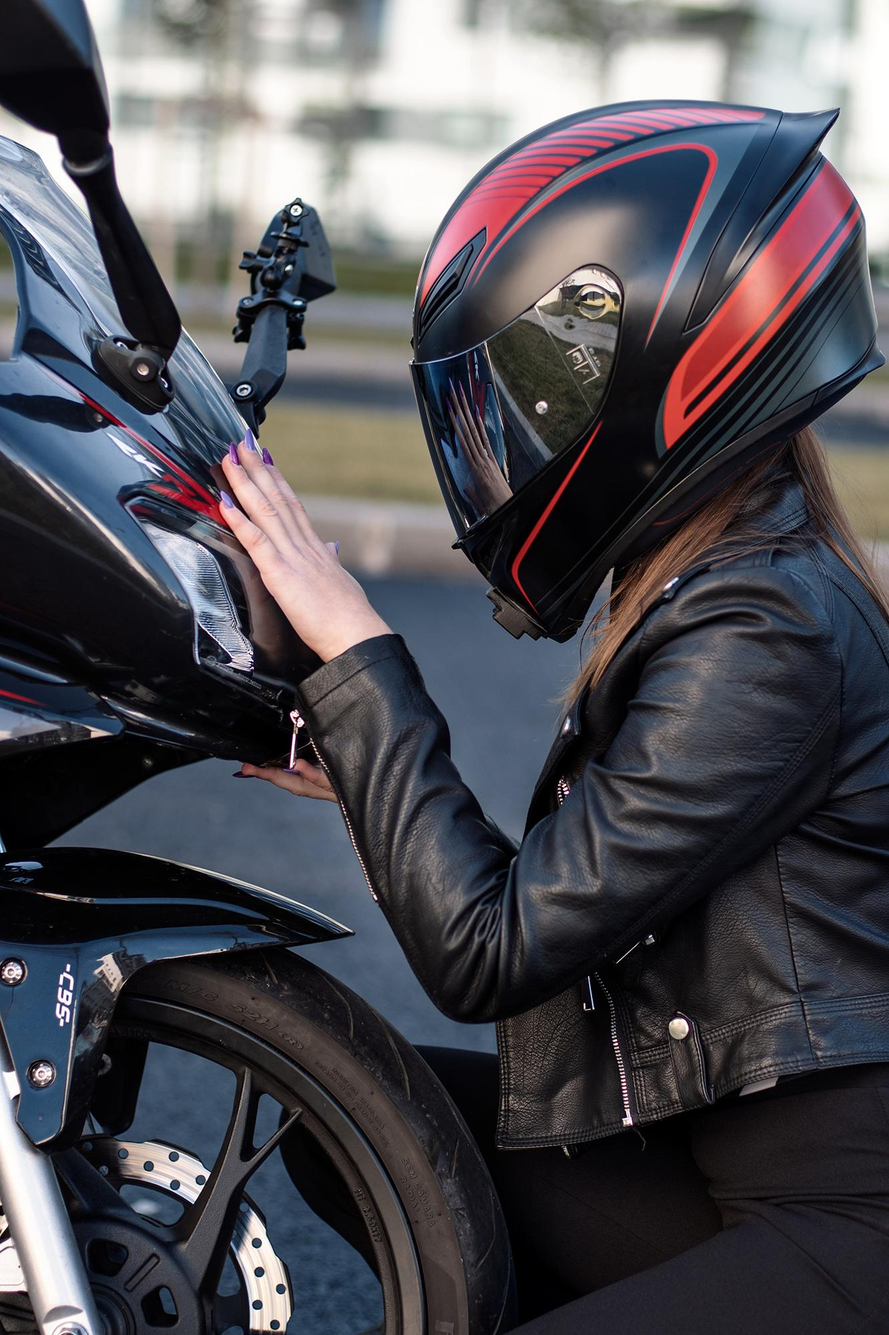helmet: (407, 96, 888, 646)
